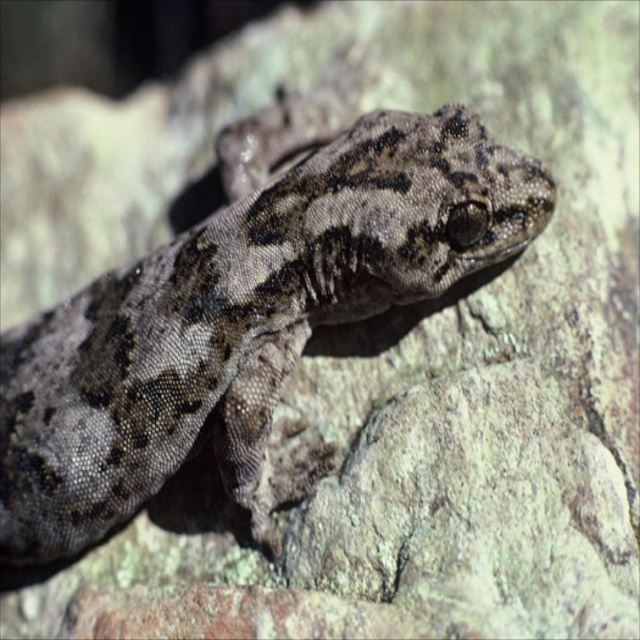Lizard: (1, 83, 545, 619)
